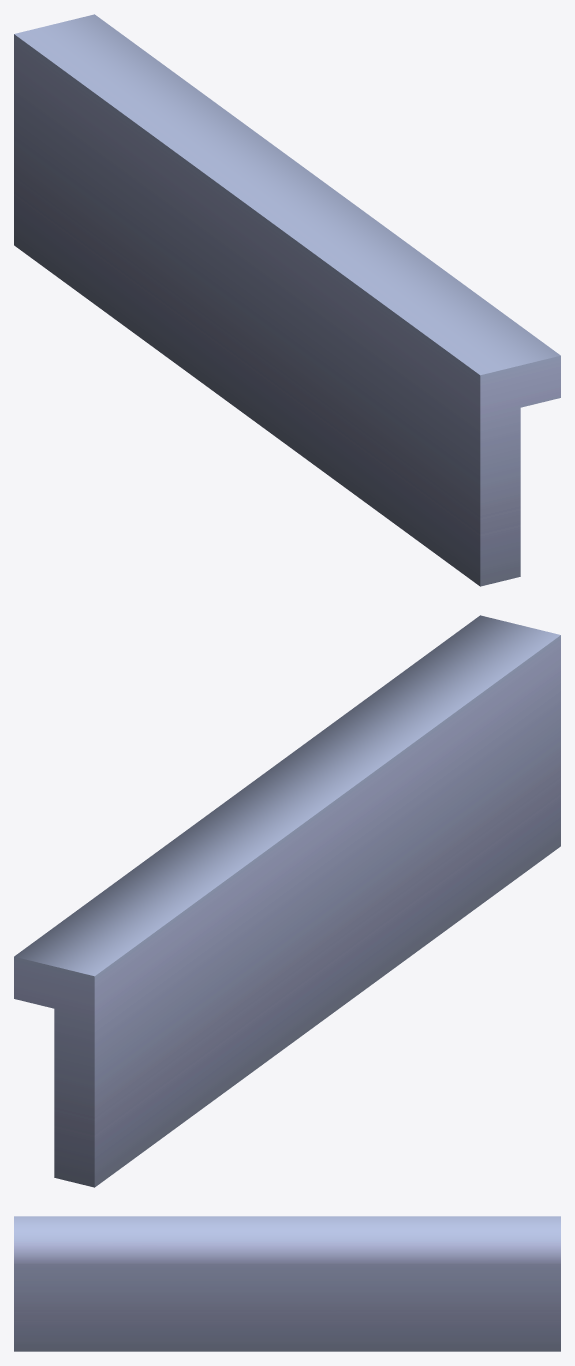
The model's file is stanchion.glb.
3 views of the same model, one above another, from view 1: azimuth 30°, elevation 25°; view 2: azimuth 150°, elevation 25°; view 3: azimuth 270°, elevation 25° (orthographic). The views are drawn at different scales.
Parts seen in each view (by area): view 1: border-high; view 2: border-high; view 3: border-high.
Boxes of the visible parts, bbox=[...] form: border-high: bbox=[14, 14, 560, 586]; border-high: bbox=[14, 615, 560, 1187]; border-high: bbox=[14, 1216, 560, 1351].
Bounding box in the file's own units: 0.2 × 0.5001 × 2.
1 material, 1 textured.
